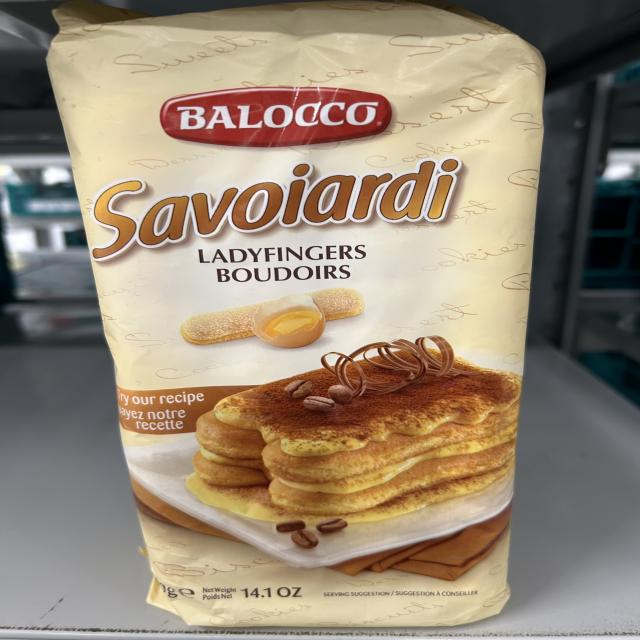object_name: (73, 22, 513, 617)
